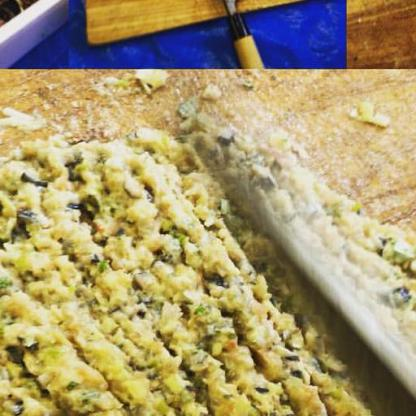knife: (198, 0, 266, 73)
